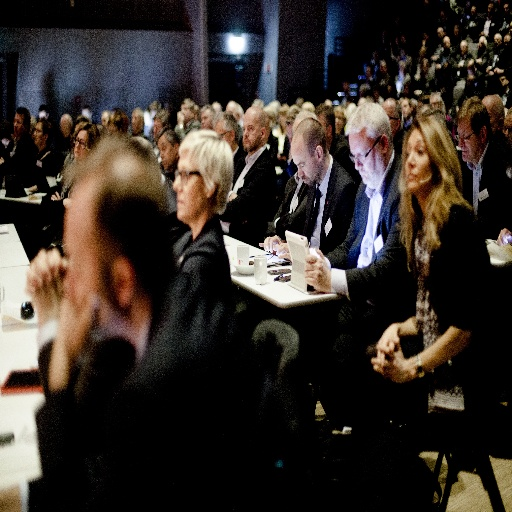hand: (48, 271, 98, 358), (23, 245, 71, 316), (369, 334, 411, 384), (374, 322, 400, 376), (305, 253, 331, 293), (256, 234, 285, 253), (272, 240, 292, 263), (495, 226, 511, 247), (309, 245, 325, 261), (61, 196, 73, 209), (49, 191, 59, 202)
